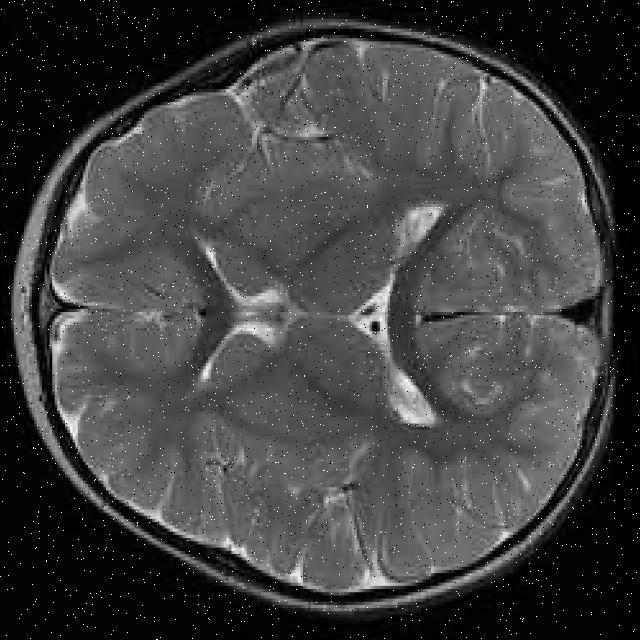No_Tumor: (13, 19, 614, 613)
